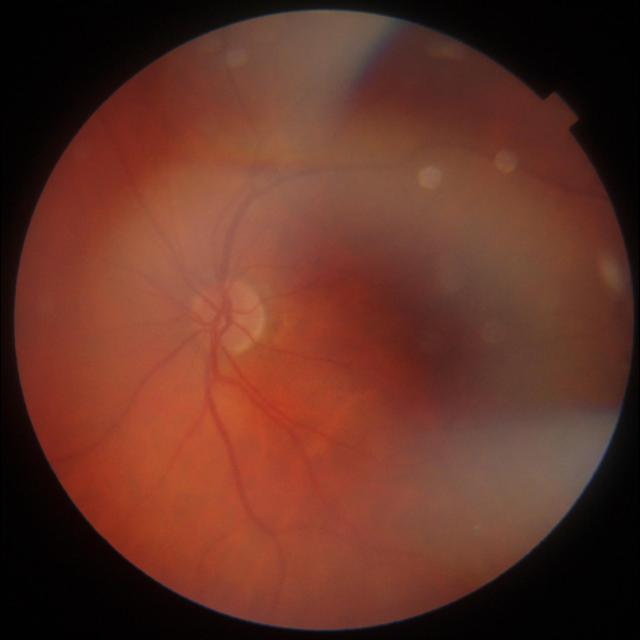OD: (188, 279, 264, 356)
